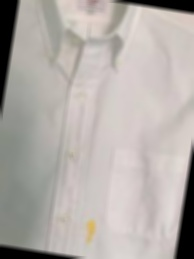mustard: (80, 215, 97, 241)
